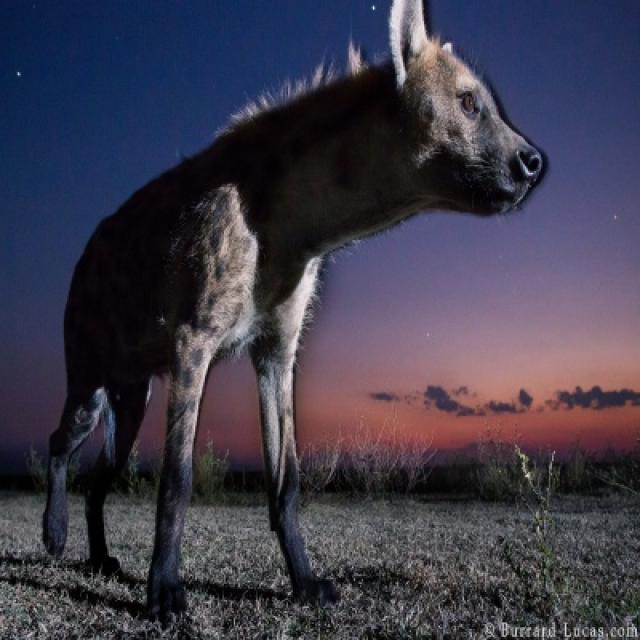hyena: (40, 0, 549, 627)
